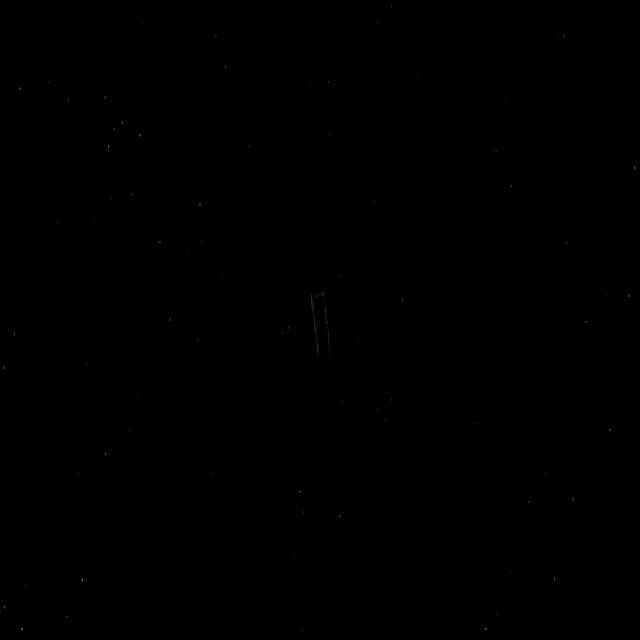satellite: (253, 258, 367, 358)
